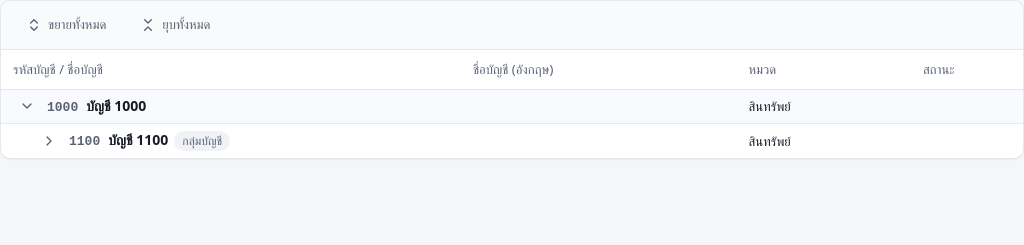
tree › ปุ่มขยาย / ยุบใช้คีย์บอร์ดได้และบอกสถานะ
This screenshot has width=1024, height=245.
Expected: the text "บัญชี 1101" is not shown
Click the button named "ขยาย บัญชี 1100": [49, 141] box [35, 127, 63, 155]
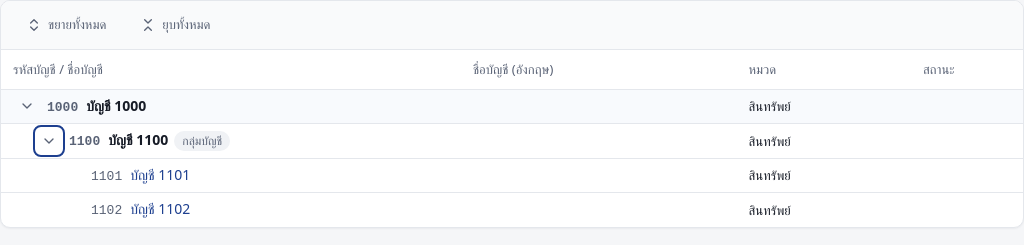
Click the button "ยุบทั้งหมด": [175, 25] box [127, 9, 223, 41]
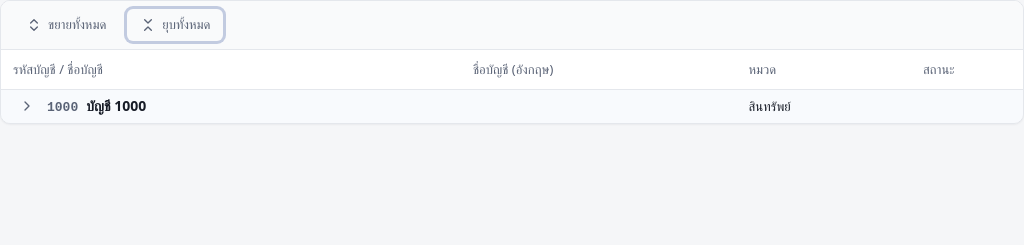
Result: the link "บัญชี 1100" is gone
